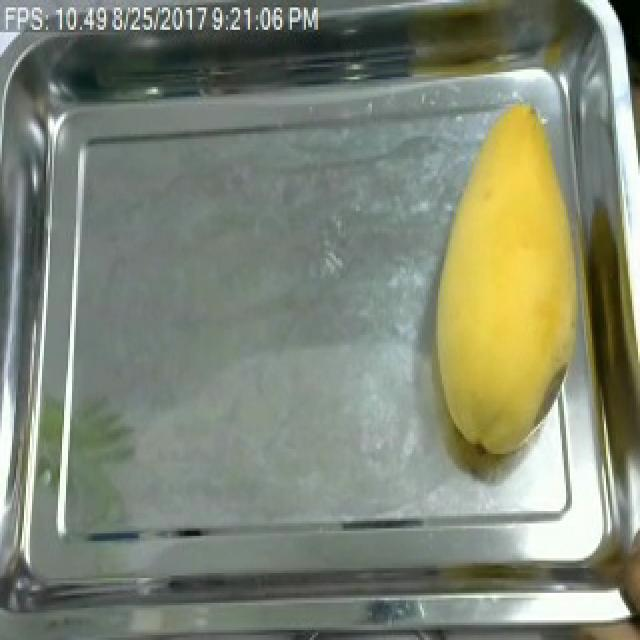fruit: (420, 84, 608, 472)
